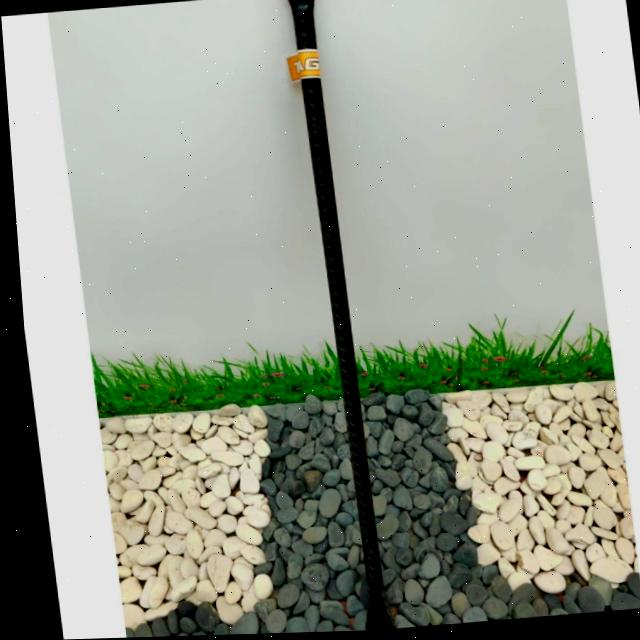crow bar: (283, 0, 388, 633)
